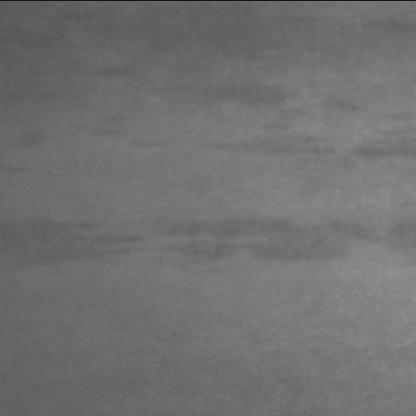inclusion: (10, 214, 408, 281), (187, 119, 410, 183), (150, 70, 304, 122)
